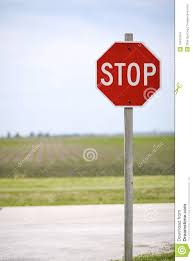stop_sign: (96, 41, 161, 107)
